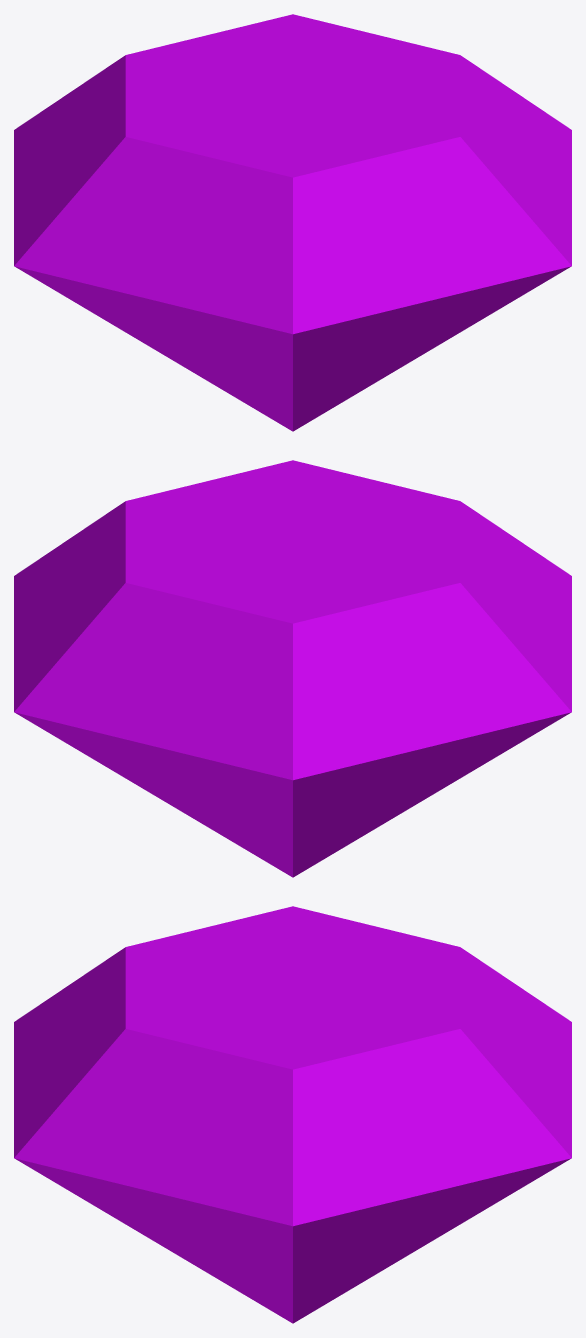
File: Gem3.fbx
3 renders of one model, top to bottom at view 1: azimuth 30°, elevation 25°; view 2: azimuth 150°, elevation 25°; view 3: azimuth 270°, elevation 25°, orthographic.
Visible parts, largest first — view 1: Diamond; view 2: Diamond; view 3: Diamond.
Part boxes in pixels (box(x1,y1,x2,y2)): Diamond: box(14, 14, 571, 431); Diamond: box(14, 460, 571, 877); Diamond: box(14, 906, 571, 1323).
Bounding box in the file's own units: 200 × 115 × 173.
